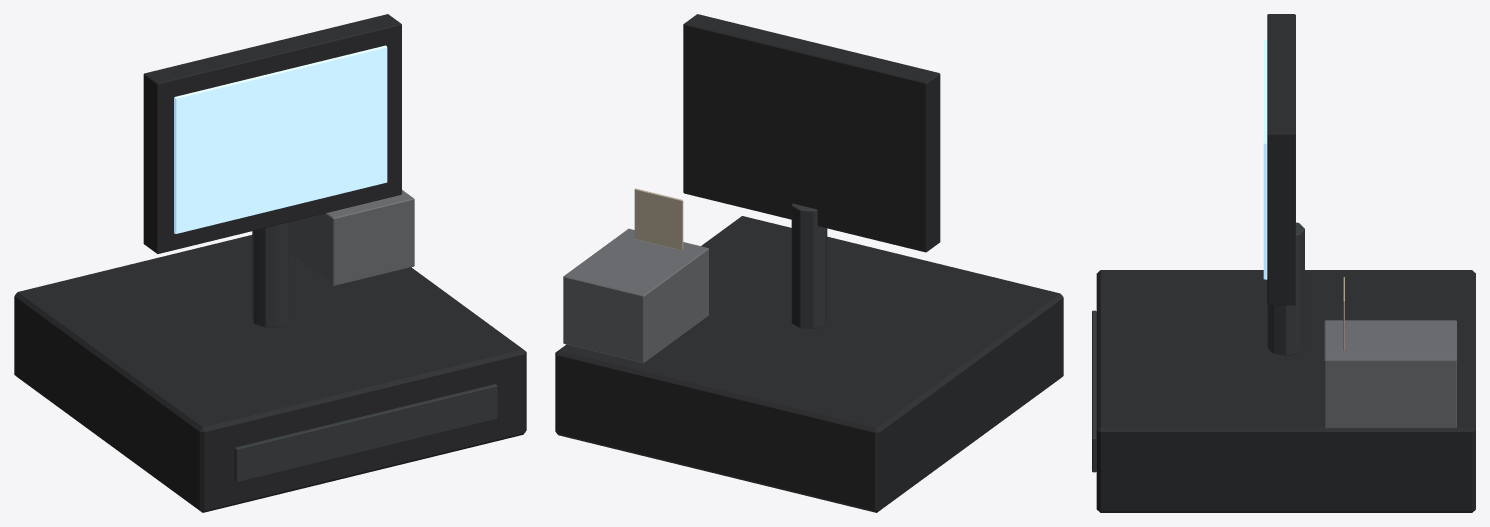
The model's file is prop_ah_till.glb.
3 renders of one model, left to right at view 1: azimuth 30°, elevation 25°; view 2: azimuth 150°, elevation 25°; view 3: azimuth 270°, elevation 25°, orthographic.
Visible parts, largest first — view 1: Body; view 2: Body; view 3: Body.
Boxes of the visible parts, x1,y1,x2,y2 form: Body: [14, 14, 526, 512]; Body: [555, 14, 1063, 512]; Body: [1092, 14, 1475, 512].
Size of the model in its own units: 0.4 by 0.42 by 0.405.
